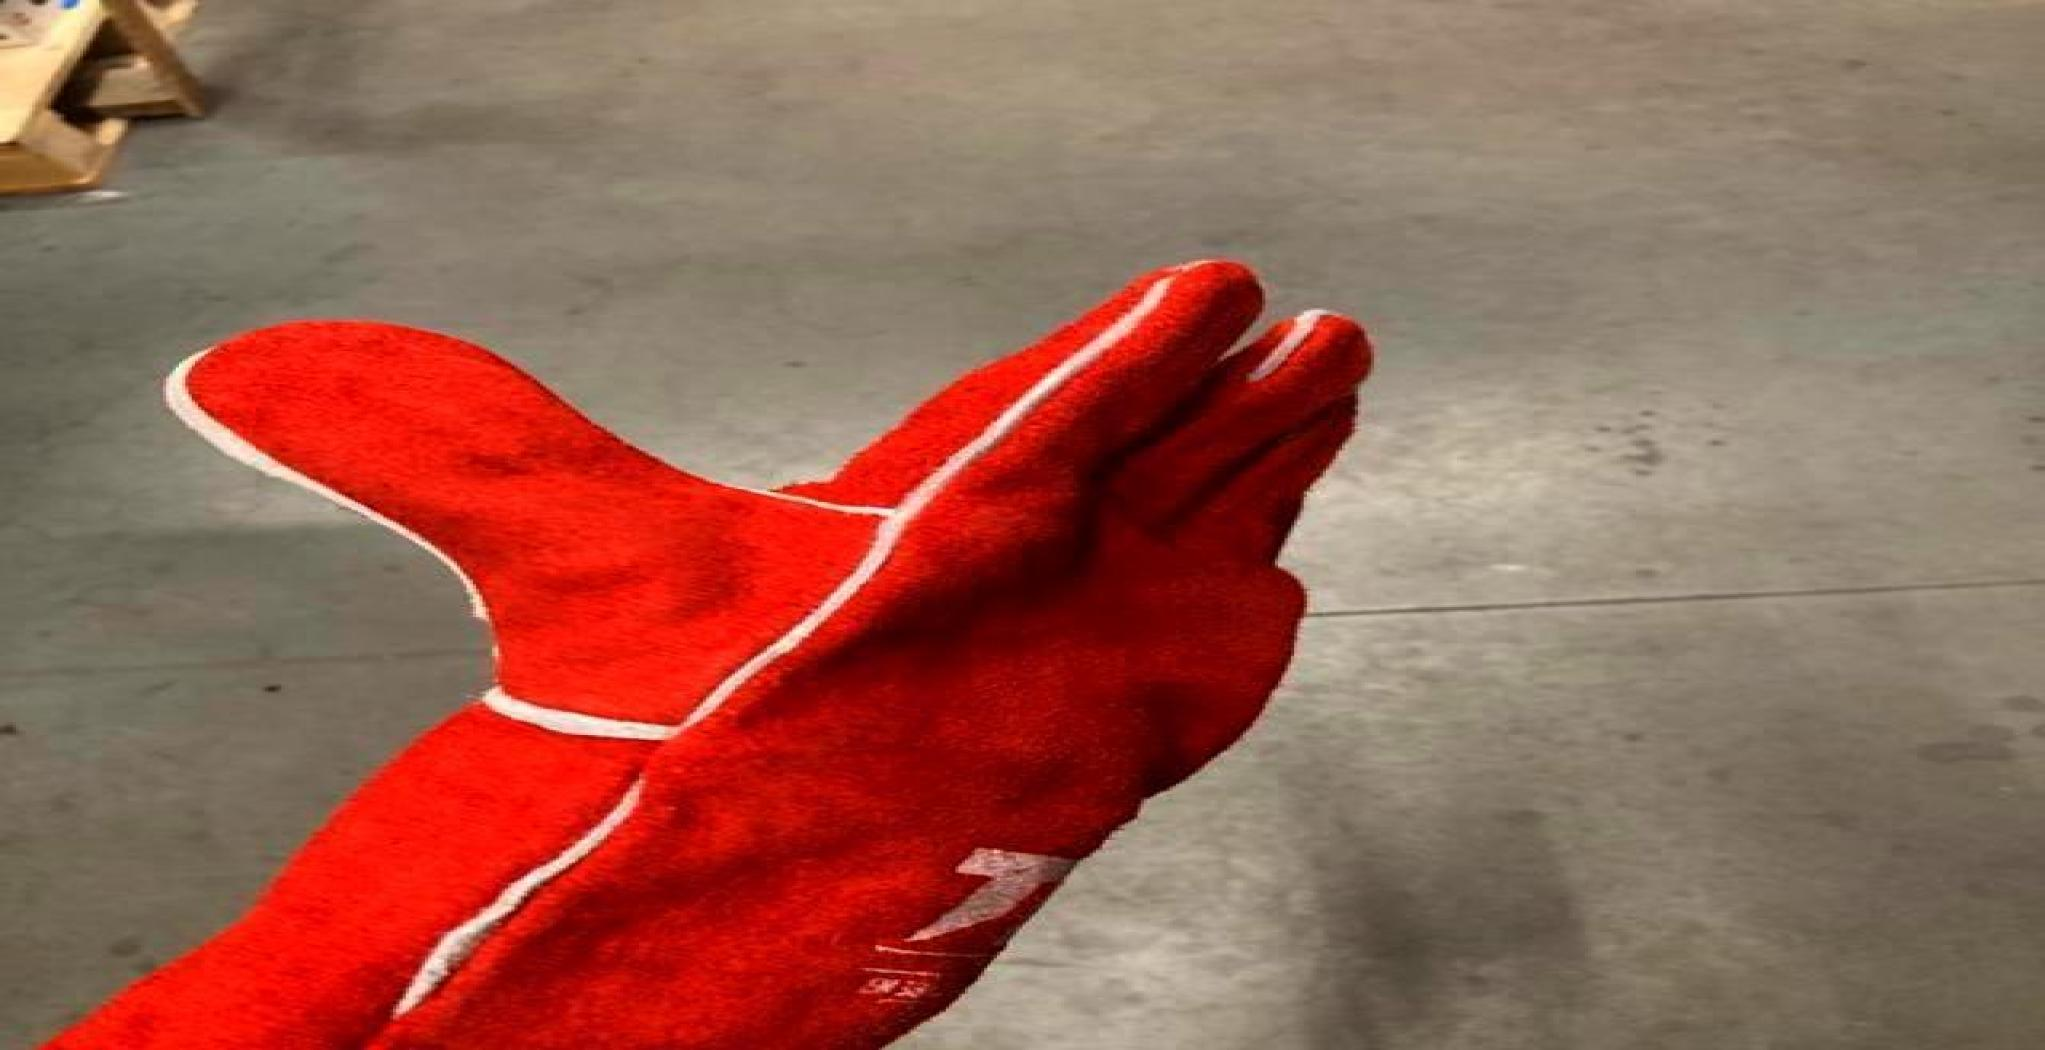gloved: (28, 254, 1377, 1049)
